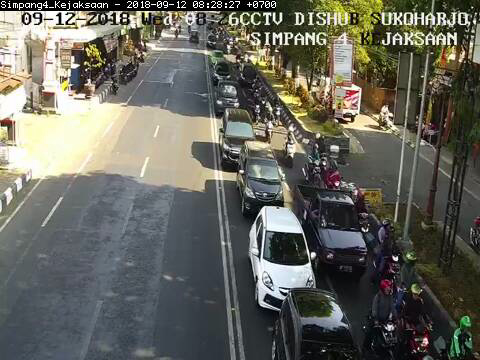motor: (362, 276, 397, 360), (400, 280, 434, 360), (373, 217, 403, 281), (303, 144, 321, 190), (282, 126, 298, 169), (264, 106, 276, 144)
